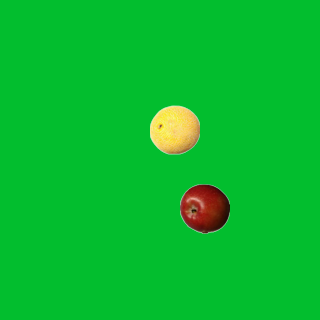Apple Braeburn: (179, 183, 229, 233)
Cantaloupe 1: (149, 104, 199, 154)
